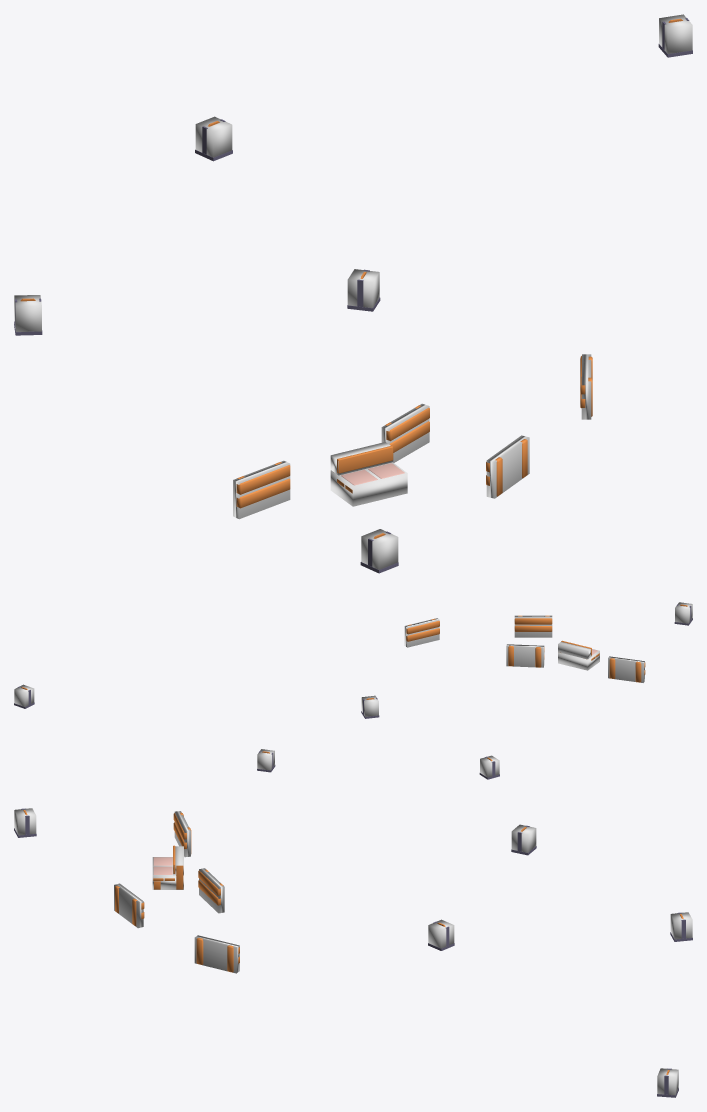
Rendered from sceneryDynamic.glb.
The picture shows the model from 3 angles, top to bottom: view 1: azimuth 30°, elevation 25°; view 2: azimuth 150°, elevation 25°; view 3: azimuth 270°, elevation 25°; orthographic projection. The views are drawn at different scales.
Parts seen in each view (by area): view 1: cube, bench.001, cube.004, fence.002, cube.002, Cube.053, Cube.158, Cube.138, fence.001, Cube.048, Cube.049, cube.003; view 2: cube.003, cube.002, fence.003, cube, fence.004, cube.004, cube.005, cube.001, Cube.138, Cube.158, Cube.053, Cube.049 (+2 smaller); view 3: cube.005, bench.001, cube.004, Cube.048, Cube.049, Cube.158, Cube.138, Cube.053, cube.003.
Boxes of the visible parts, box(x1,y1,x2,y2) form: cube: box(330, 462, 407, 506); bench.001: box(337, 446, 404, 493); cube.004: box(486, 435, 529, 498); fence.002: box(236, 462, 290, 508); cube.002: box(233, 460, 290, 519); Cube.053: box(195, 116, 232, 157); Cube.158: box(361, 529, 398, 569); Cube.138: box(659, 14, 692, 53); fence.001: box(385, 405, 429, 452); Cube.048: box(347, 269, 379, 308); Cube.049: box(14, 295, 41, 331); cube.003: box(381, 403, 429, 462); cube.003: box(506, 644, 544, 667); cube.002: box(608, 656, 644, 682); fence.003: box(514, 615, 552, 631); cube: box(558, 649, 599, 670); fence.004: box(406, 618, 439, 641); cube.004: box(514, 615, 552, 637); cube.005: box(404, 618, 439, 647); cube.001: box(558, 642, 591, 659); Cube.138: box(14, 684, 34, 706); Cube.158: box(675, 602, 692, 623); Cube.053: box(257, 749, 274, 770); Cube.049: box(480, 755, 499, 777); cube.005: box(194, 935, 239, 973); bench.001: box(153, 845, 183, 889); cube.004: box(114, 883, 143, 928); Cube.048: box(428, 919, 454, 948); Cube.049: box(511, 824, 536, 852); Cube.158: box(14, 808, 36, 835); Cube.138: box(657, 1068, 678, 1095); Cube.053: box(670, 912, 692, 939); cube.003: box(199, 868, 224, 913).
Bounding box in the file's own units: 28.81 × 1.84 × 29.96.
